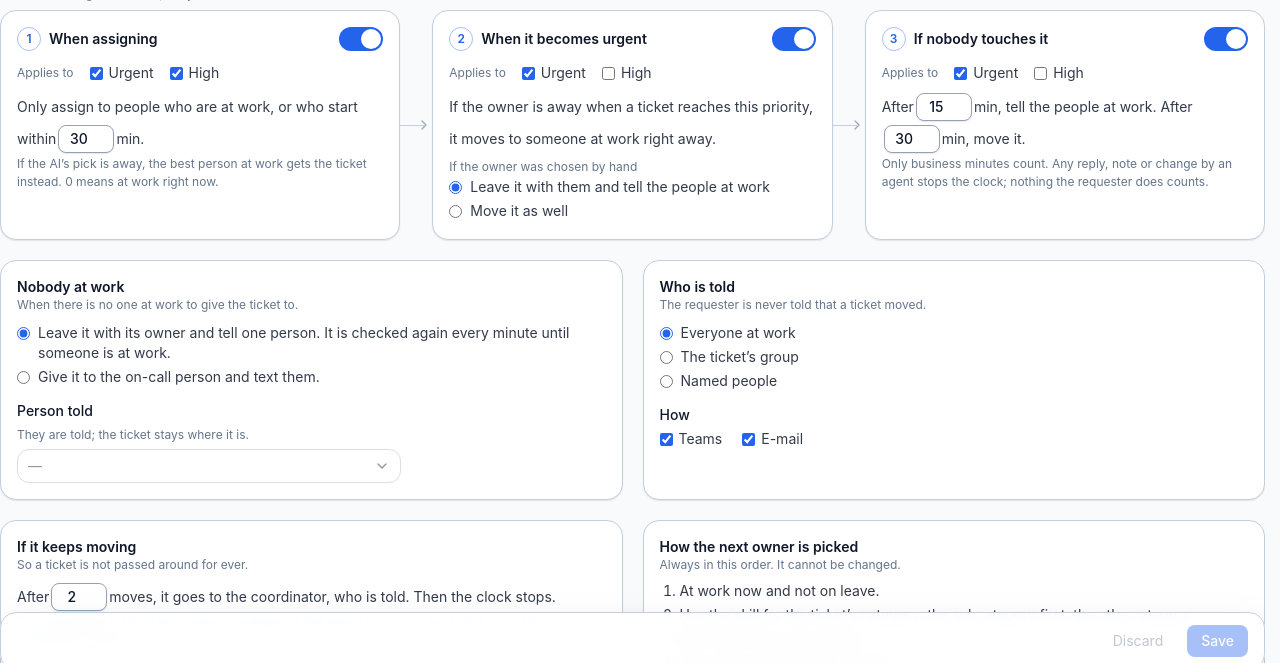
Test: Urgent response: workspace coordinators › a refused rules change never keeps the coordinators from being stored
Replace the text in the number field named "Minutes before the people at work are told" with "10": (944, 106) [916, 92, 972, 120]
(page scrolled)
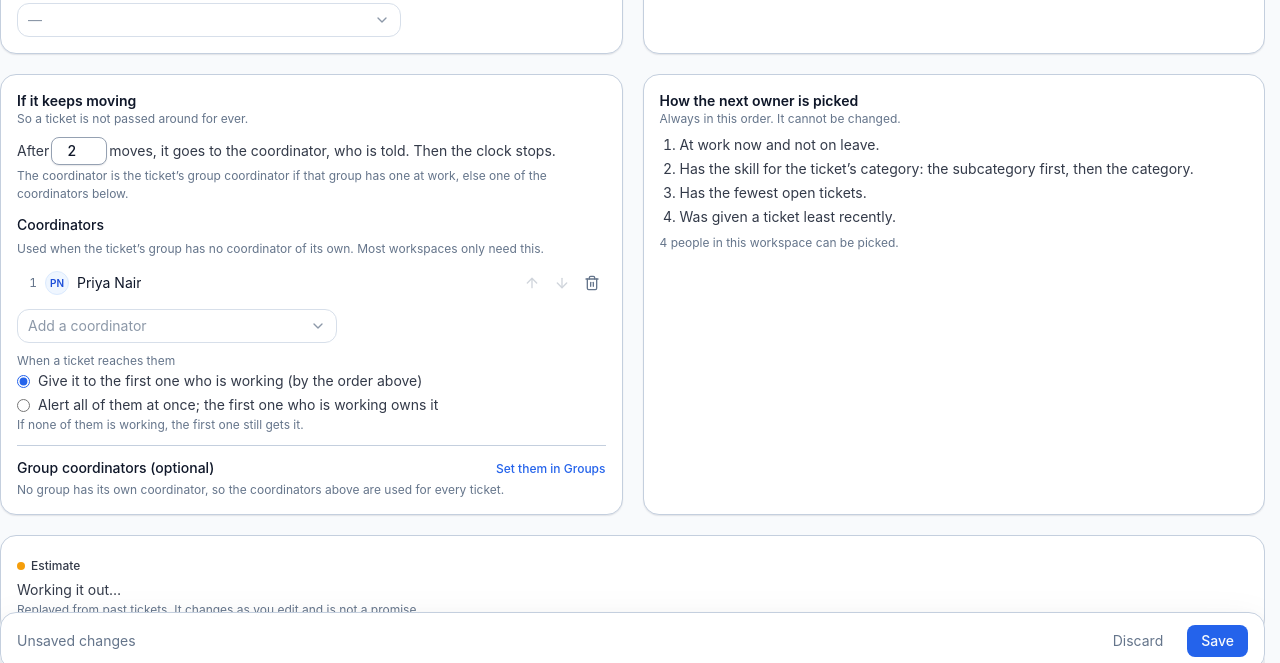
Click the dropdown labelled "Add a coordinator": (87, 326) [17, 309, 337, 343]
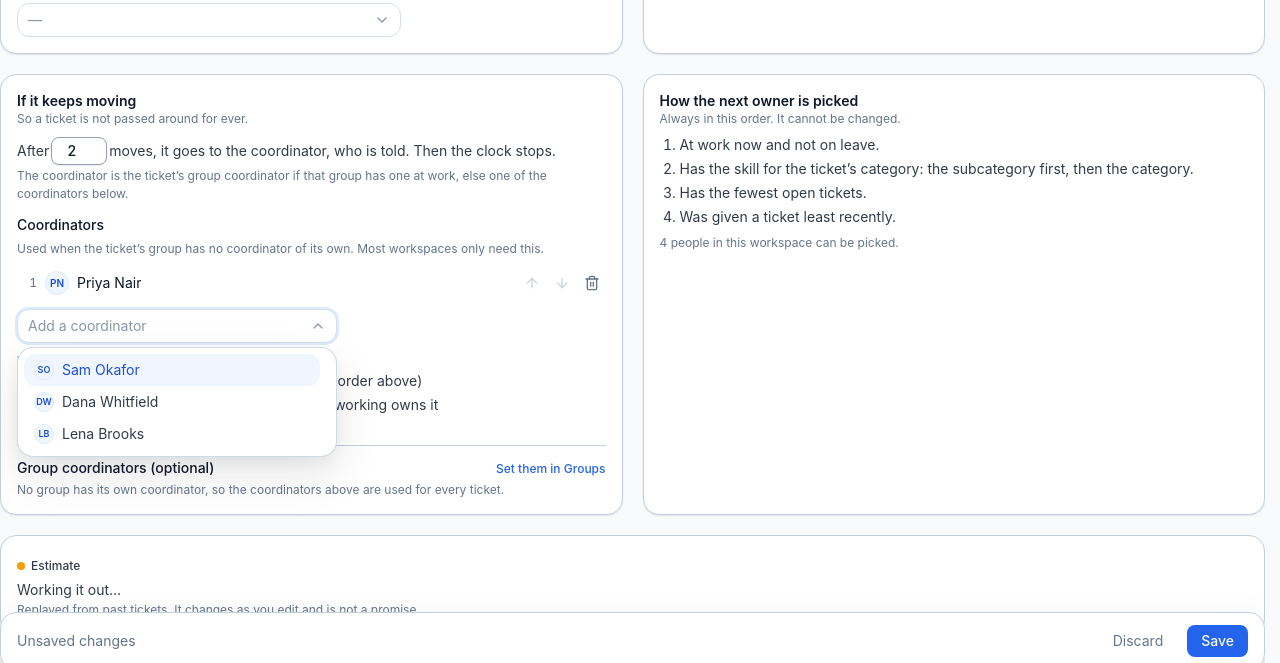
Click the option "LB Lena Brooks": (89, 434) [34, 424, 144, 444]
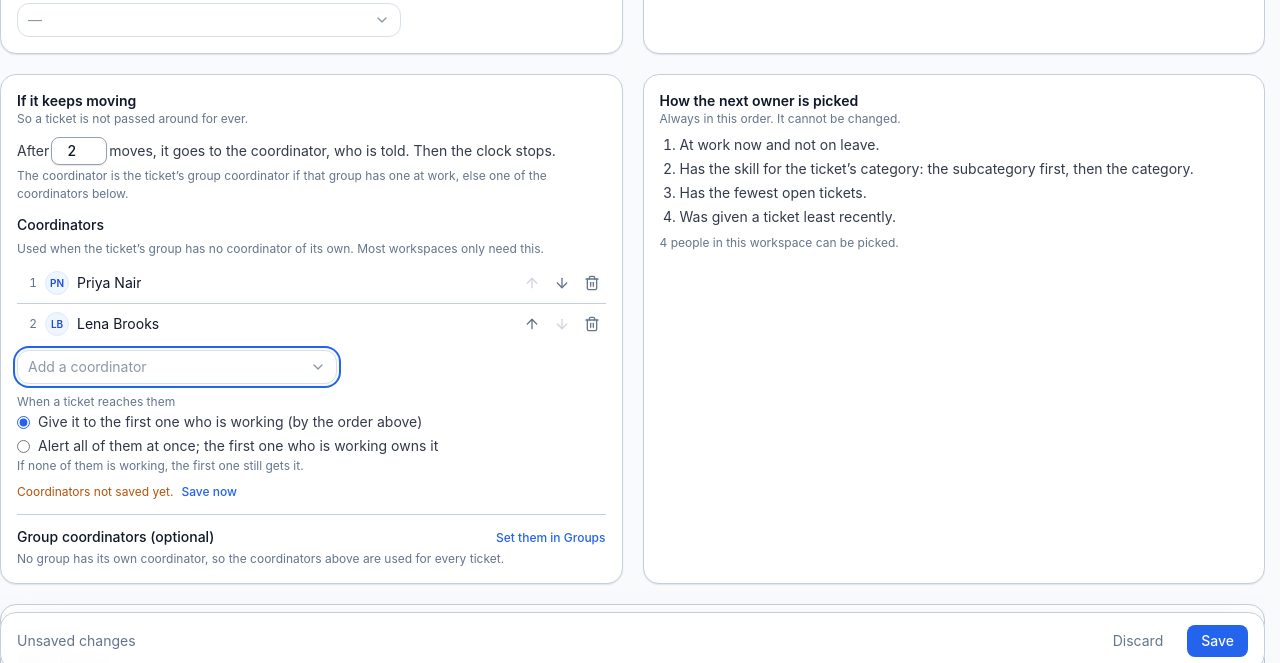
Click the button "Save": (1218, 641) [1187, 625, 1248, 657]
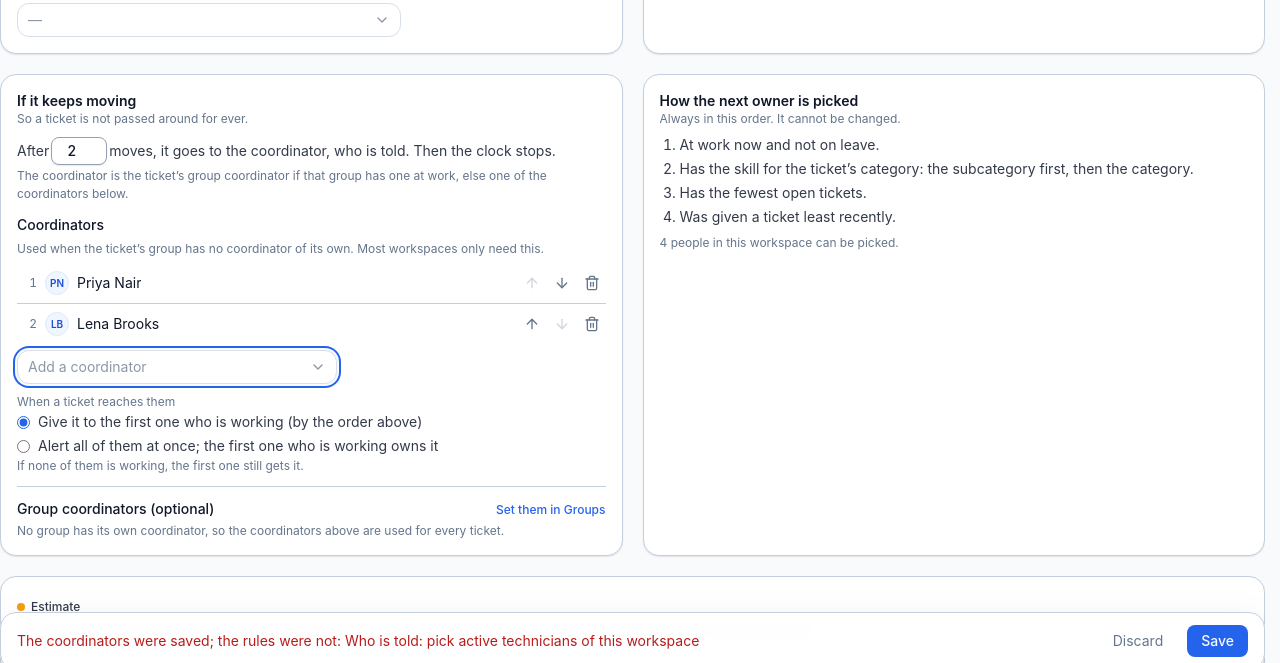
Result: the button "Save" is enabled at [1187, 625, 1248, 657]
Result: the text "The coordinators were saved; the rules were not: Who is told" is shown at [17, 632, 699, 649]
Result: the message with test id "coordinators-unsaved" is gone
